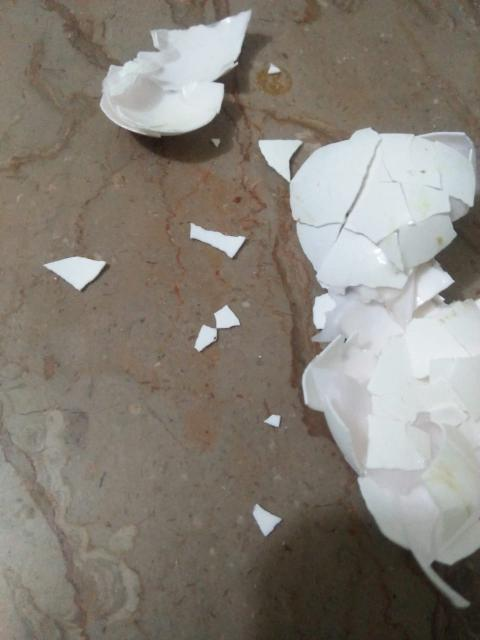Roto: (300, 289, 480, 597), (258, 126, 479, 308), (98, 8, 252, 138)
